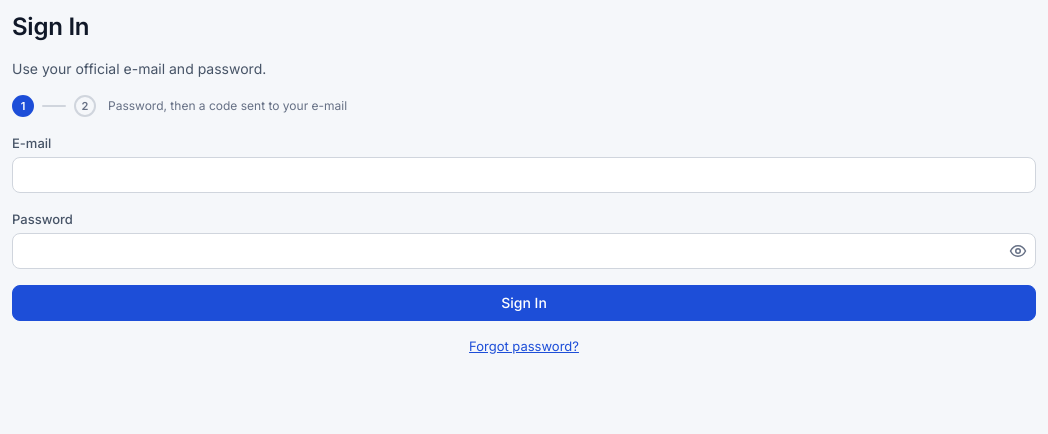
Test case: sign-in › mail_not_configured says mail is unavailable
Type "a@example.org" into the field labelled "E-mail" at coordinates (524, 175), box [12,157,1036,193]
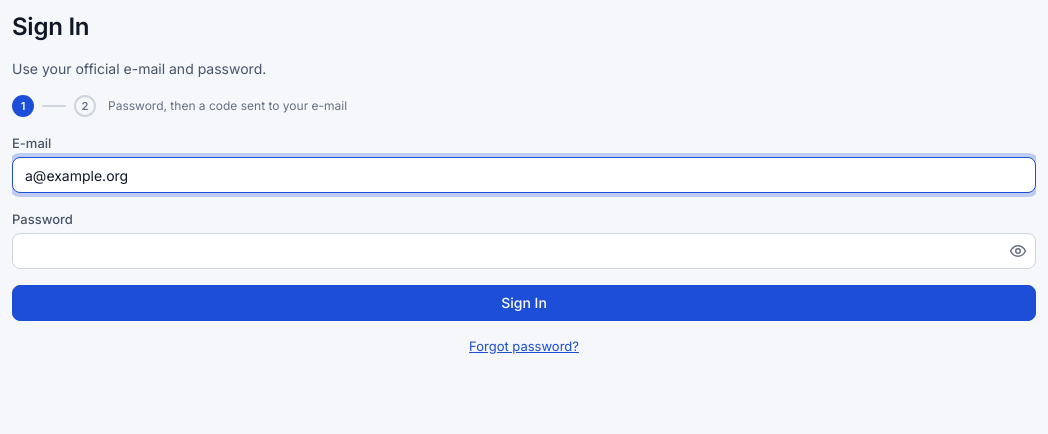
Type "x" into the password field labelled "Password" at coordinates (524, 251), box [12,233,1036,269]
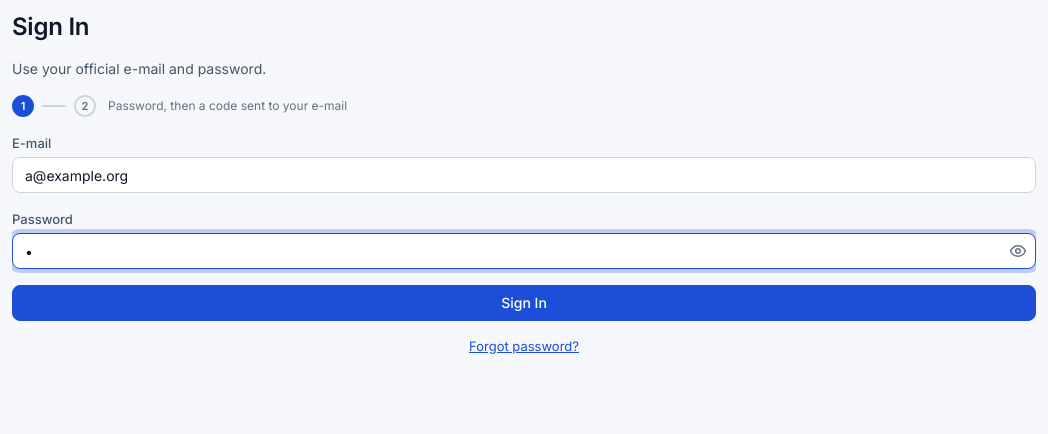
Click the button "Sign In" at coordinates (524, 303), box [12,285,1036,321]
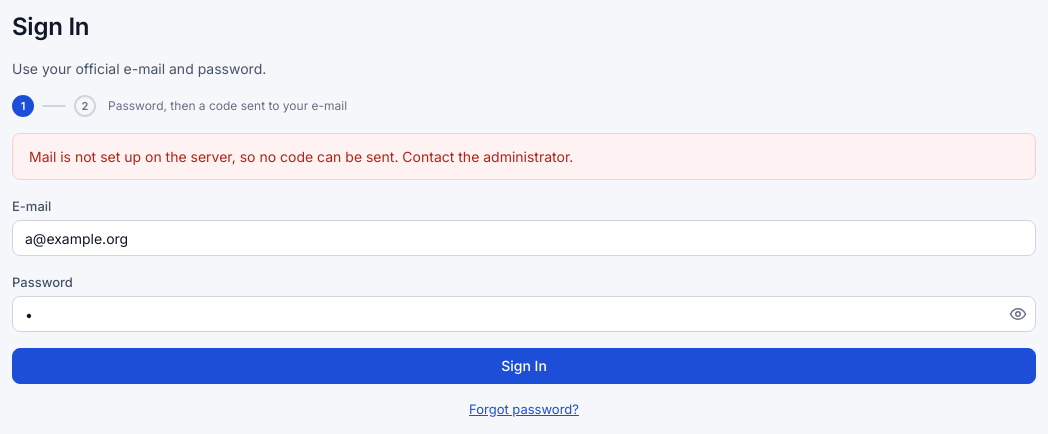
Check: the message shows "Contact the administrator", box [29,148,573,165]
